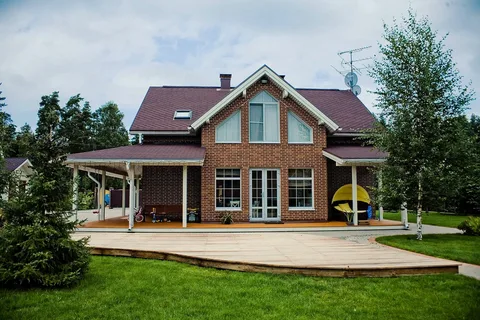private_hause: (138, 81, 395, 228)
